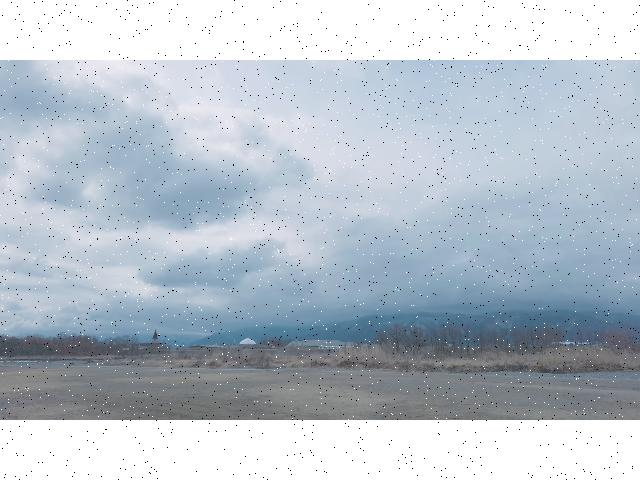Anti-Drone: (290, 276, 302, 284)
